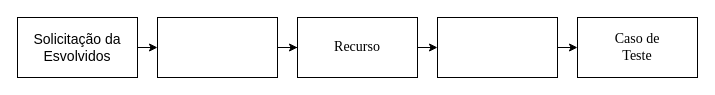
This 715x95 diagram has some shape labels left out. The centre of each missing label's shape, as x and y in pixels:
"Caso de Uso" belongs at [497,47].
"Necessidade dos Envolvidos" belongs at [217,47].
